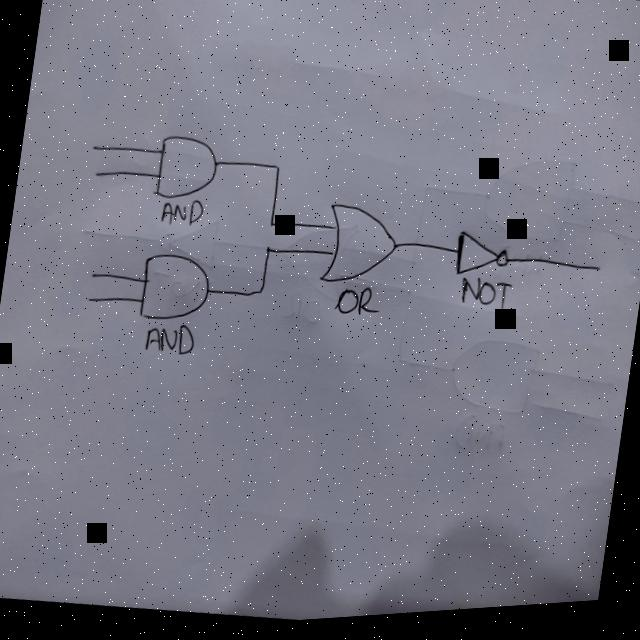junction: (254, 284, 266, 301), (270, 163, 282, 177), (264, 220, 276, 234), (262, 244, 272, 259)
terminal: (588, 268, 604, 285), (89, 143, 98, 154), (88, 270, 97, 281), (84, 294, 93, 305), (92, 169, 100, 180)
text: (456, 277, 513, 321), (140, 320, 196, 363), (332, 285, 382, 324), (157, 196, 206, 231)
